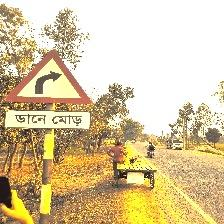Right-turn: (3, 50, 94, 129)
